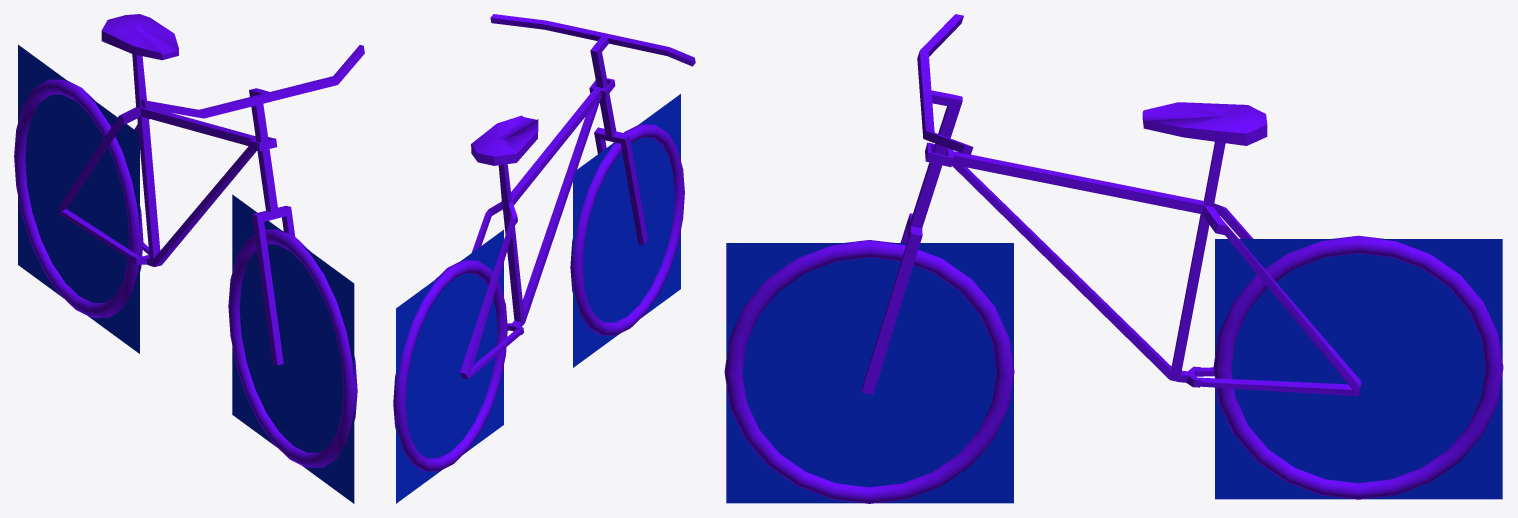
The model's file is bike_01.FBX.
3 views of the same model, side by side, from view 1: azimuth 30°, elevation 25°; view 2: azimuth 150°, elevation 25°; view 3: azimuth 270°, elevation 25° (orthographic). The views are drawn at different scales.
Visible parts, largest first — view 1: backbike, frontwheel; view 2: backbike, frontwheel; view 3: backbike, frontwheel.
Part boxes in pixels (x1,y1,x2,y2): backbike: (14, 14, 277, 353); frontwheel: (141, 45, 364, 503); backbike: (393, 78, 615, 503); frontwheel: (490, 14, 695, 367); backbike: (925, 102, 1503, 499); frontwheel: (724, 14, 1014, 503).
Size of the model in its own units: 59.28 by 91.29 by 152.
